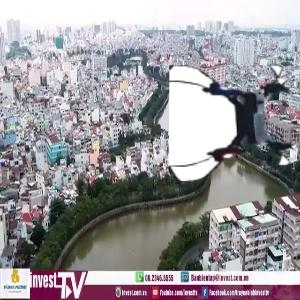drone: (170, 56, 300, 187)
